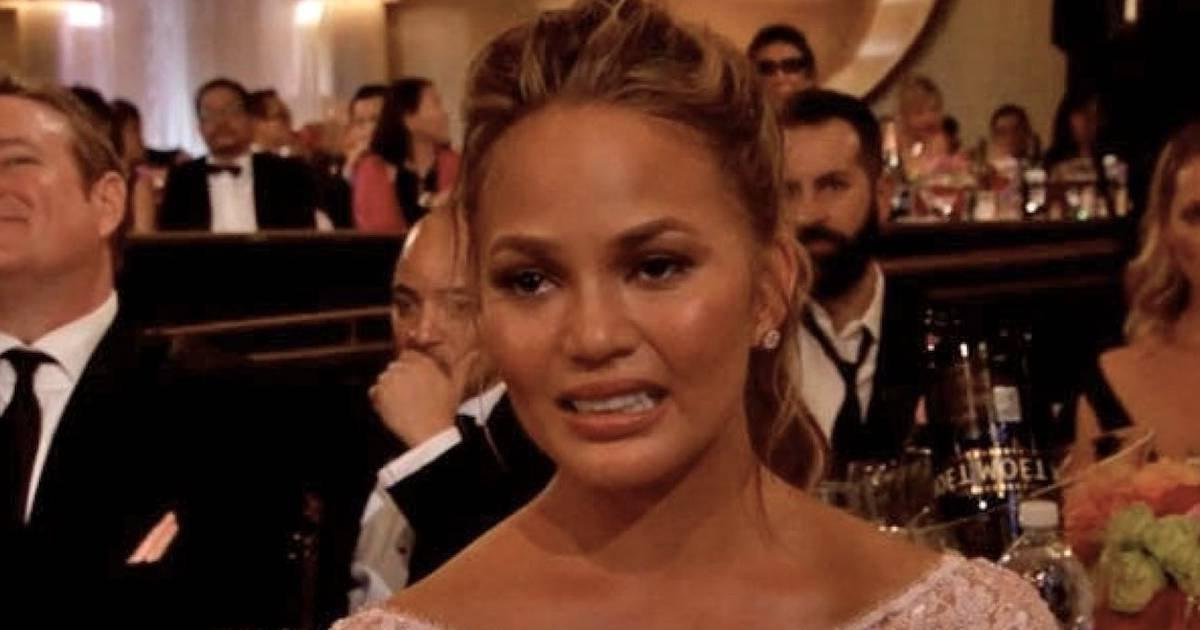Drunk: (469, 142, 752, 489)
